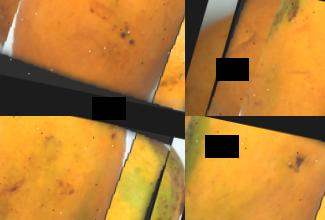Ripe: (0, 0, 185, 116), (0, 116, 174, 220), (195, 0, 325, 116), (185, 116, 325, 220)
